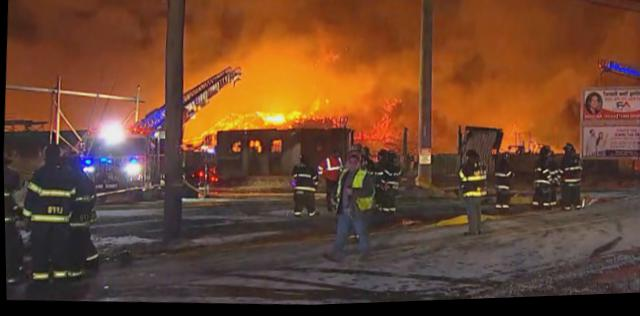fire: (261, 106, 321, 130), (373, 101, 402, 146), (222, 115, 249, 139), (359, 130, 371, 145)
smoke: (432, 0, 582, 135), (241, 0, 425, 103), (7, 0, 167, 83), (183, 0, 246, 70), (578, 0, 601, 90), (600, 13, 639, 63), (403, 100, 419, 157), (433, 132, 459, 157)
